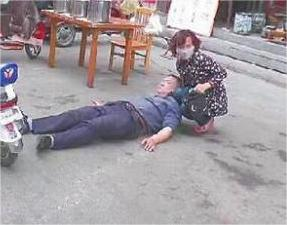bending: (160, 24, 231, 135)
down: (17, 76, 198, 151)
